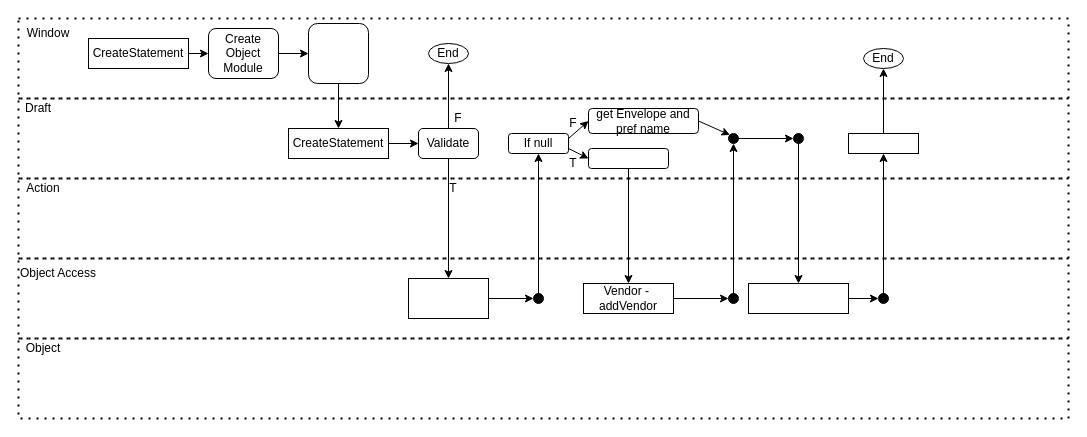
Some shapes in this 1087 by 437 pixel diagram are drawn without their labels. Here are the shapes that lost their labels. From the top down, the centre of each, then its label:
the point at 338,53: Create Response Ticket
the point at 628,158: Create Vendor
the point at 883,143: SplitAmount
the point at 448,298: Vendor - GetbyName
the point at 798,298: Statement - CreateStatement
